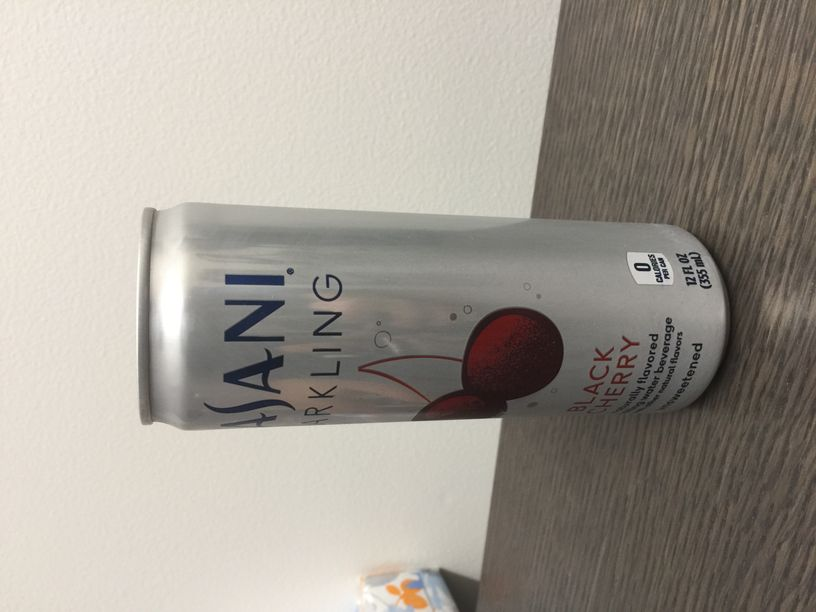blackcherry: (116, 199, 742, 436)
